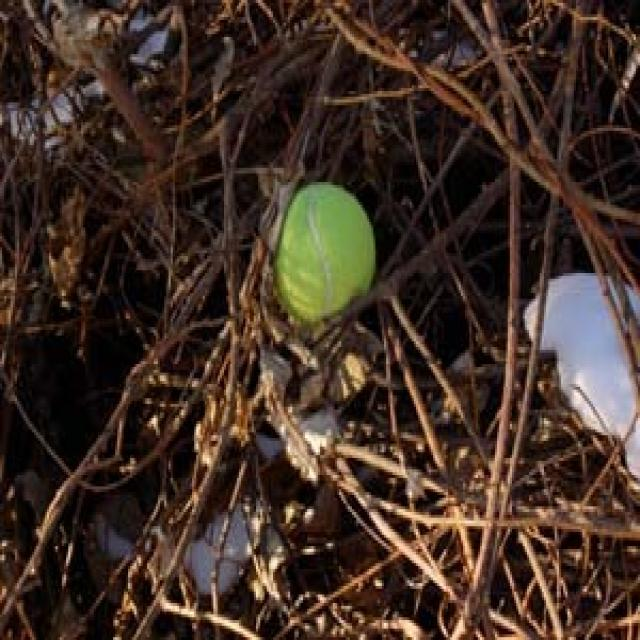Tennis Ball: (273, 182, 378, 327)
